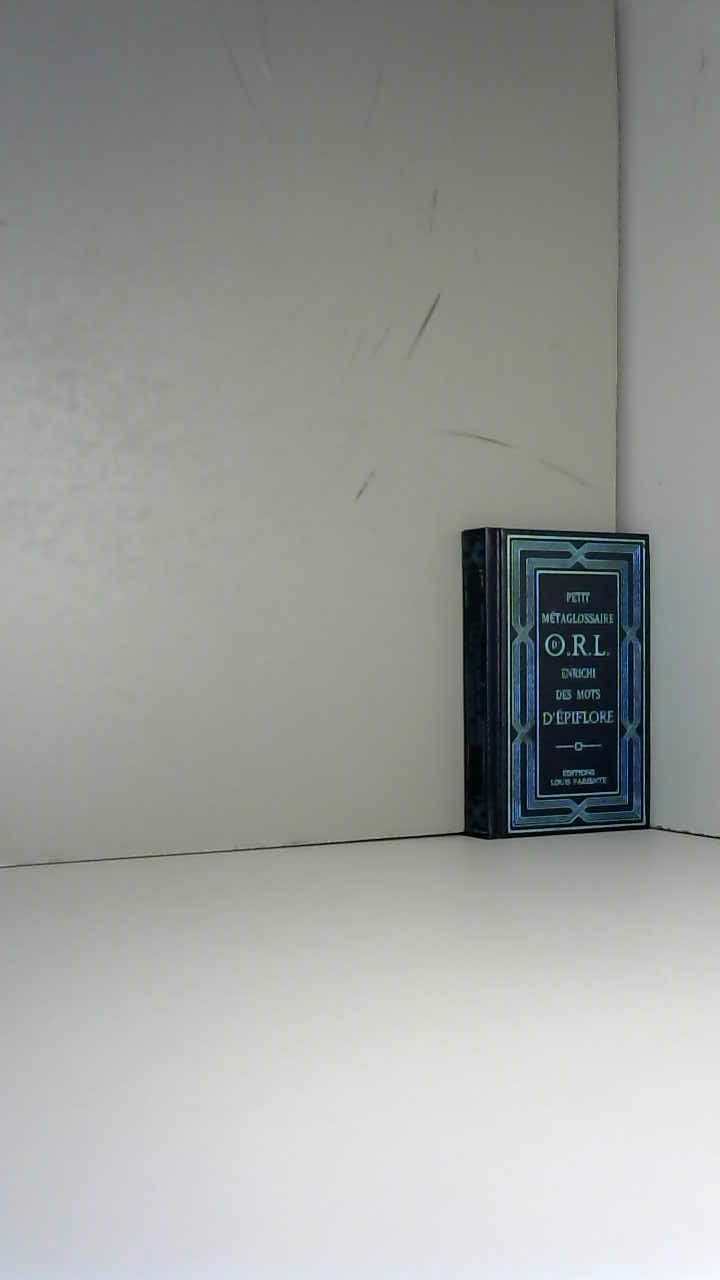book: (444, 509, 670, 851)
